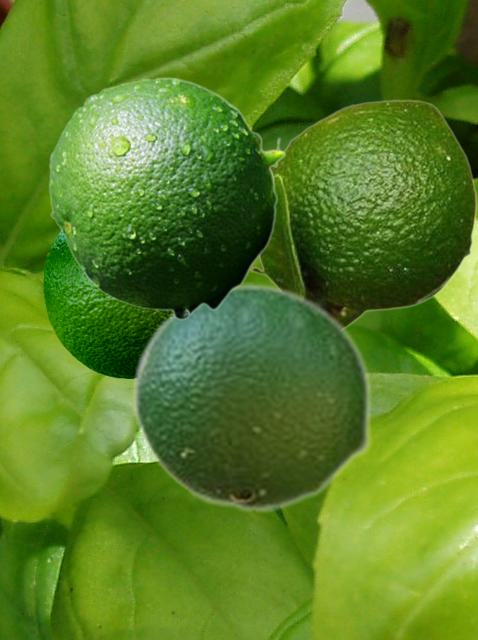dalandan: (48, 76, 285, 320), (131, 282, 372, 513), (250, 99, 476, 327), (43, 229, 168, 377)
